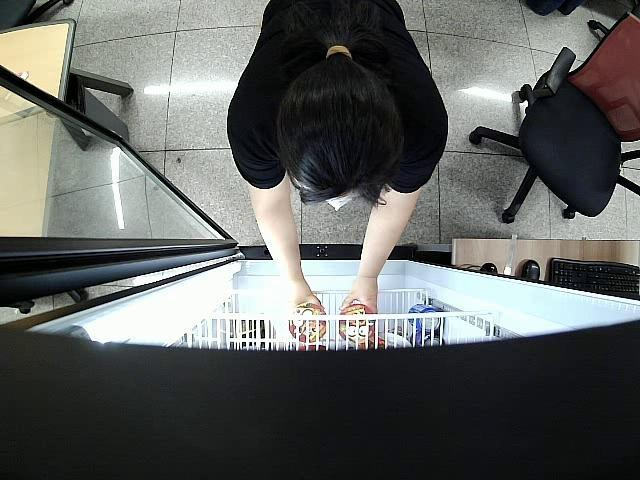06_nuguri_S: (286, 301, 328, 343), (338, 306, 374, 341)
